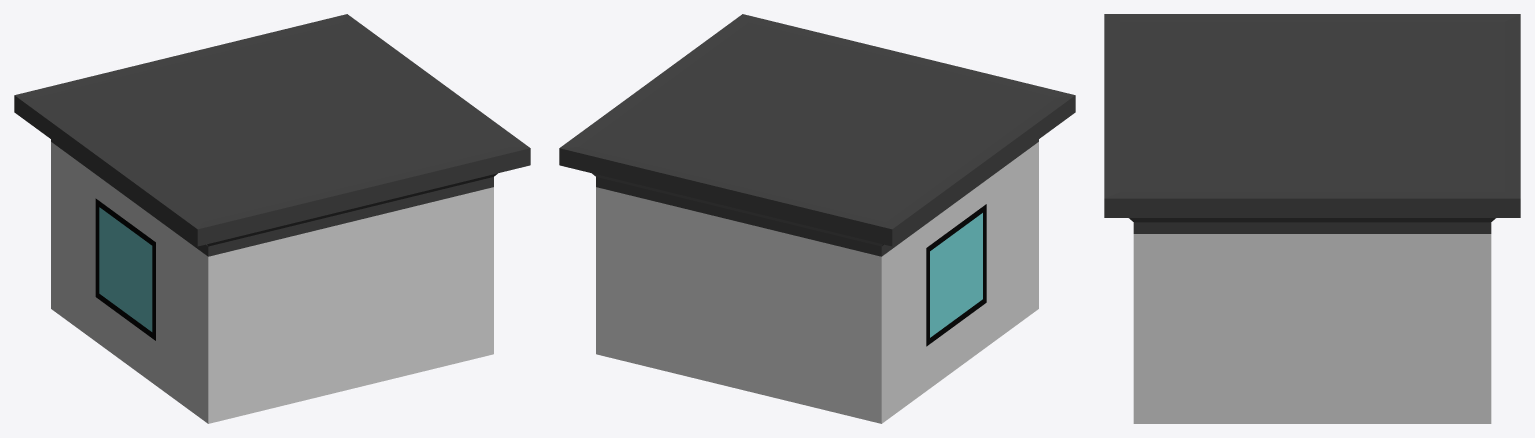
File: Roof top extra.fbx
3 renders of one model, left to right at view 1: azimuth 30°, elevation 25°; view 2: azimuth 150°, elevation 25°; view 3: azimuth 270°, elevation 25°, orthographic. The views are drawn at different scales.
Parts seen in each view (by area): view 1: Cube; view 2: Cube; view 3: Cube.
Boxes of the visible parts, bbox=[...] form: Cube: bbox=[14, 14, 530, 423]; Cube: bbox=[559, 14, 1075, 423]; Cube: bbox=[1104, 14, 1520, 423].
Size of the model in its own units: 1167 by 703 by 1113.
